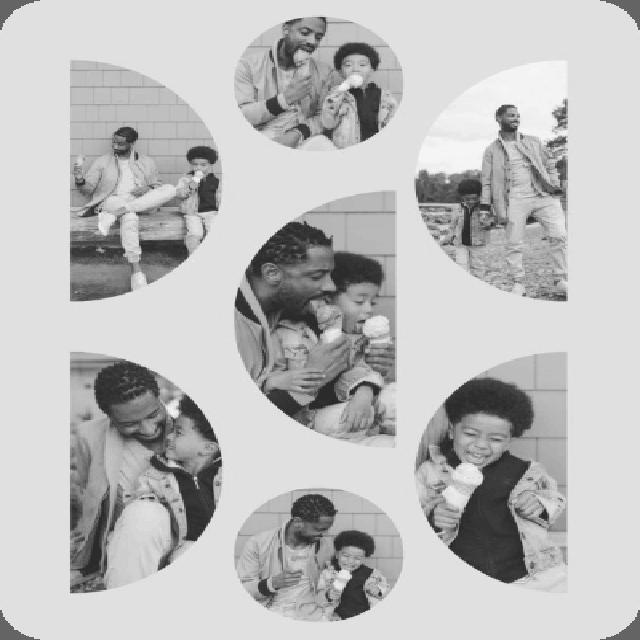Happiness: (450, 408, 517, 470), (107, 388, 170, 445), (162, 413, 220, 465)
